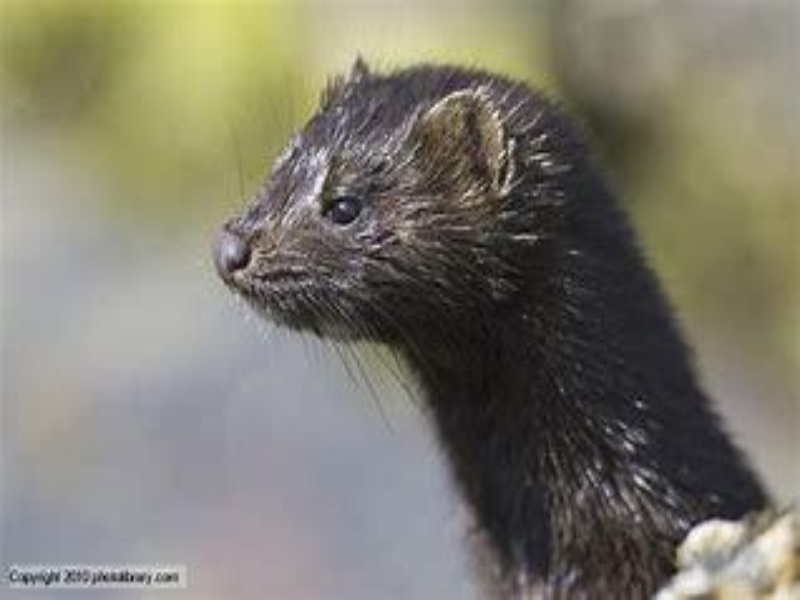minkish: (206, 48, 779, 590)
